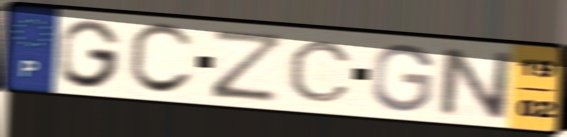C: (125, 21, 198, 98), (286, 39, 356, 104)
G: (369, 42, 438, 114), (57, 17, 125, 90)
N: (437, 44, 514, 122)
Z: (208, 27, 289, 104)
